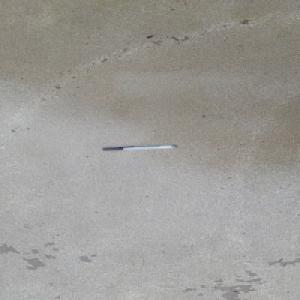Pen: (101, 144, 177, 151)
